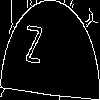Z: (25, 24, 43, 73)
